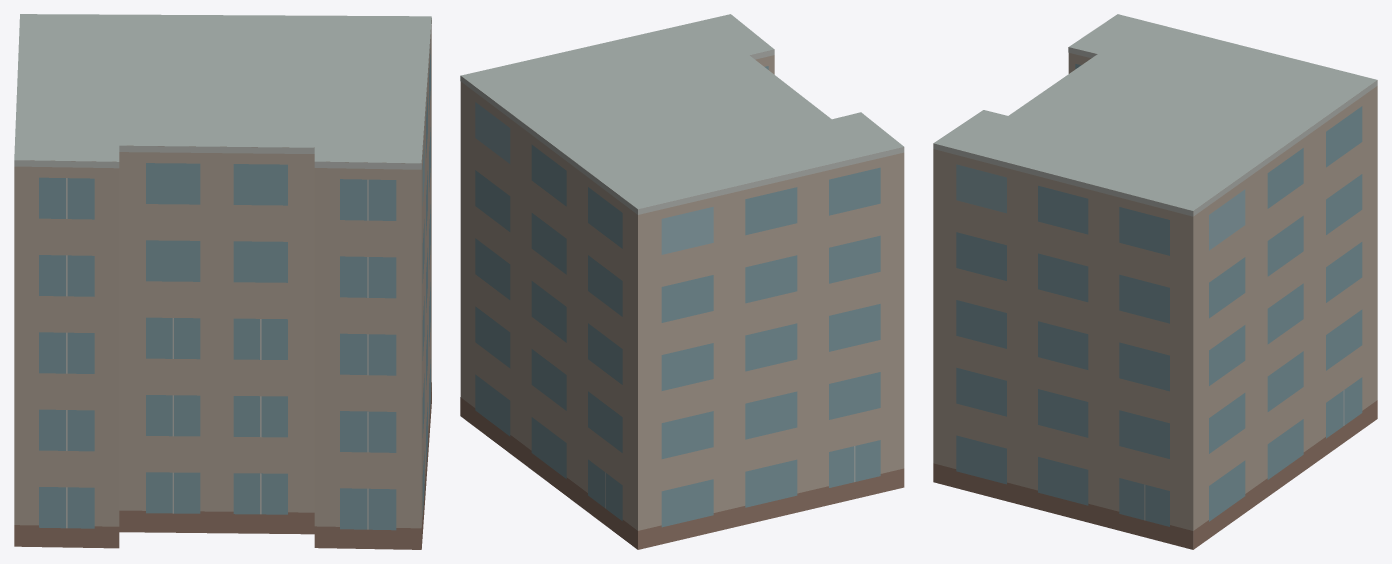
Rendered from survey-upis-32692645.glb.
The picture shows the model from 3 angles, left to right: view 1: azimuth 30°, elevation 25°; view 2: azimuth 150°, elevation 25°; view 3: azimuth 270°, elevation 25°; orthographic projection. The views are drawn at different scales.
Parts seen in each view (by area): view 1: survey-upis-32692645.tmp; view 2: survey-upis-32692645.tmp; view 3: survey-upis-32692645.tmp.
Boxes of the visible parts, bbox=[...] form: survey-upis-32692645.tmp: bbox=[14, 14, 431, 549]; survey-upis-32692645.tmp: bbox=[460, 14, 904, 549]; survey-upis-32692645.tmp: bbox=[933, 14, 1377, 549].
Size of the model in its own units: 18.34 by 14.7 by 17.48.
